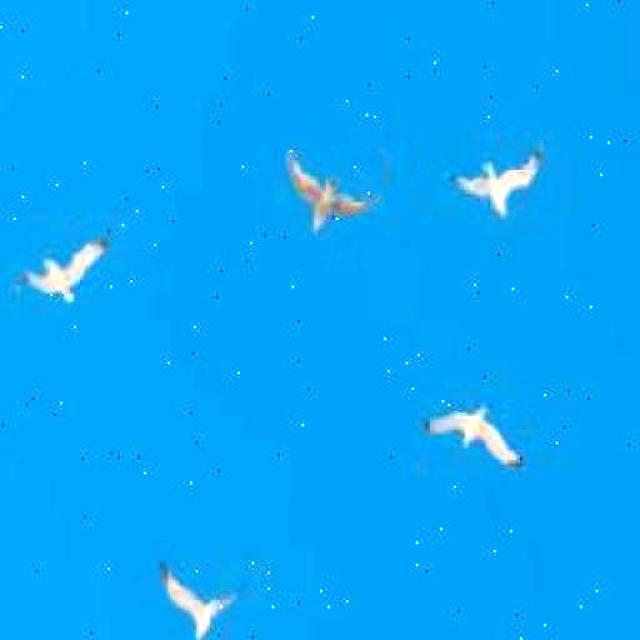airplane: (282, 149, 384, 245), (442, 140, 540, 224), (155, 554, 248, 640), (419, 400, 529, 472), (18, 221, 110, 305)
